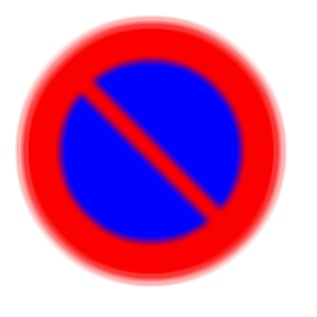Prohibition_sign: (8, 9, 295, 311)
